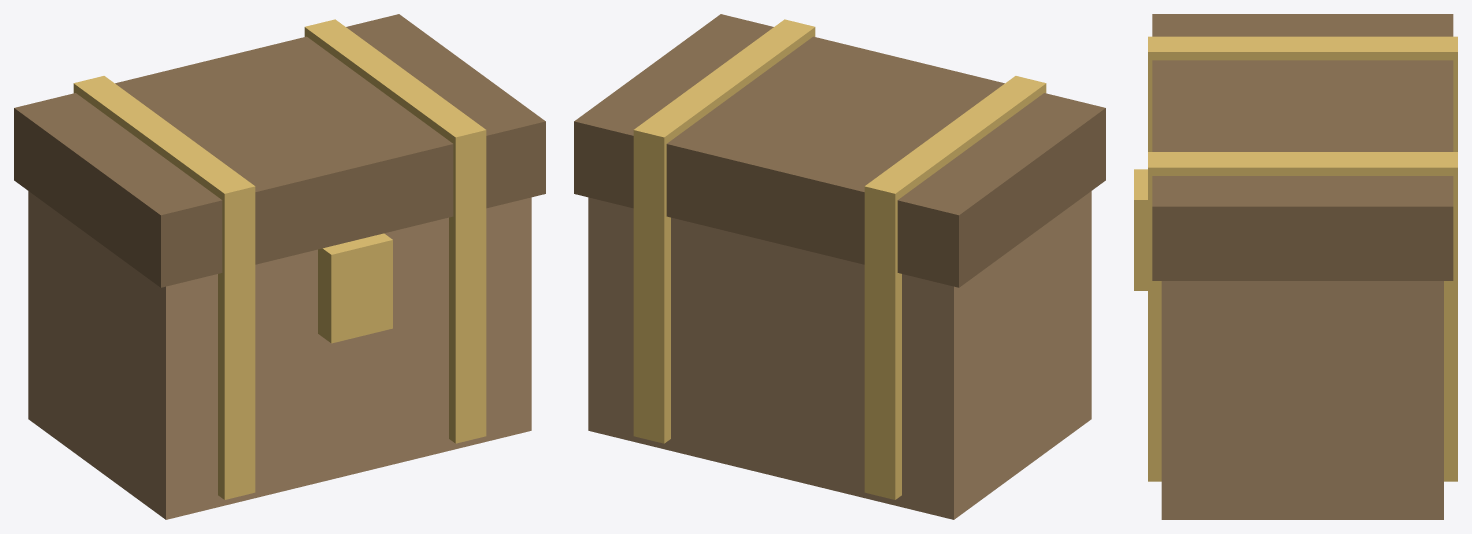
File: chest.glb
3 views of the same model, side by side, from view 1: azimuth 30°, elevation 25°; view 2: azimuth 150°, elevation 25°; view 3: azimuth 270°, elevation 25° (orthographic). The views are drawn at different scales.
Parts seen in each view (by area): view 1: Base, Lid, Band, Band.001, Latch; view 2: Base, Lid, Band, Band.001; view 3: Base, Lid, Band.001, Band, Latch.
Boxes of the visible parts, <box> form: Base: <box>28,191,531,519</box>; Lid: <box>14,14,545,287</box>; Band: <box>73,76,255,499</box>; Band.001: <box>304,19,486,443</box>; Latch: <box>318,233,392,343</box>; Base: <box>588,191,1091,519</box>; Lid: <box>574,14,1105,287</box>; Band: <box>864,76,1046,499</box>; Band.001: <box>633,19,815,443</box>; Base: <box>1161,281,1443,519</box>; Lid: <box>1152,14,1453,280</box>; Band.001: <box>1148,152,1457,481</box>; Band: <box>1148,36,1457,151</box>; Latch: <box>1134,169,1147,290</box>.
Bounding box in the file's own units: 1 × 0.79 × 0.71.
